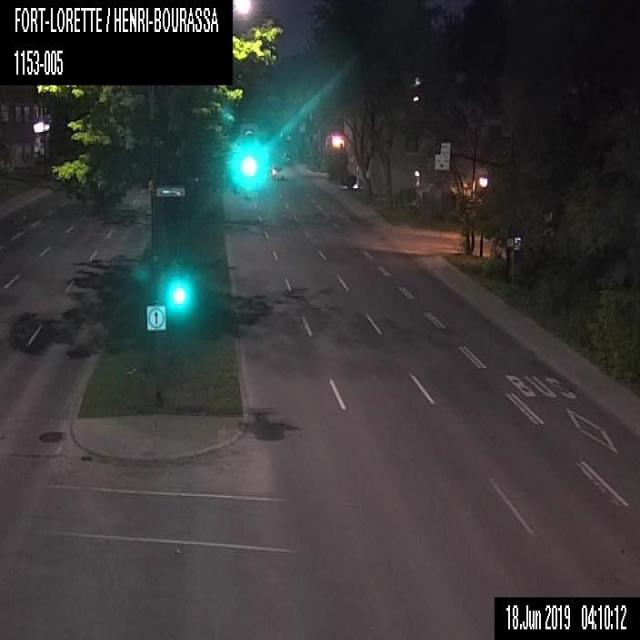vehicle: (269, 165, 284, 180)
